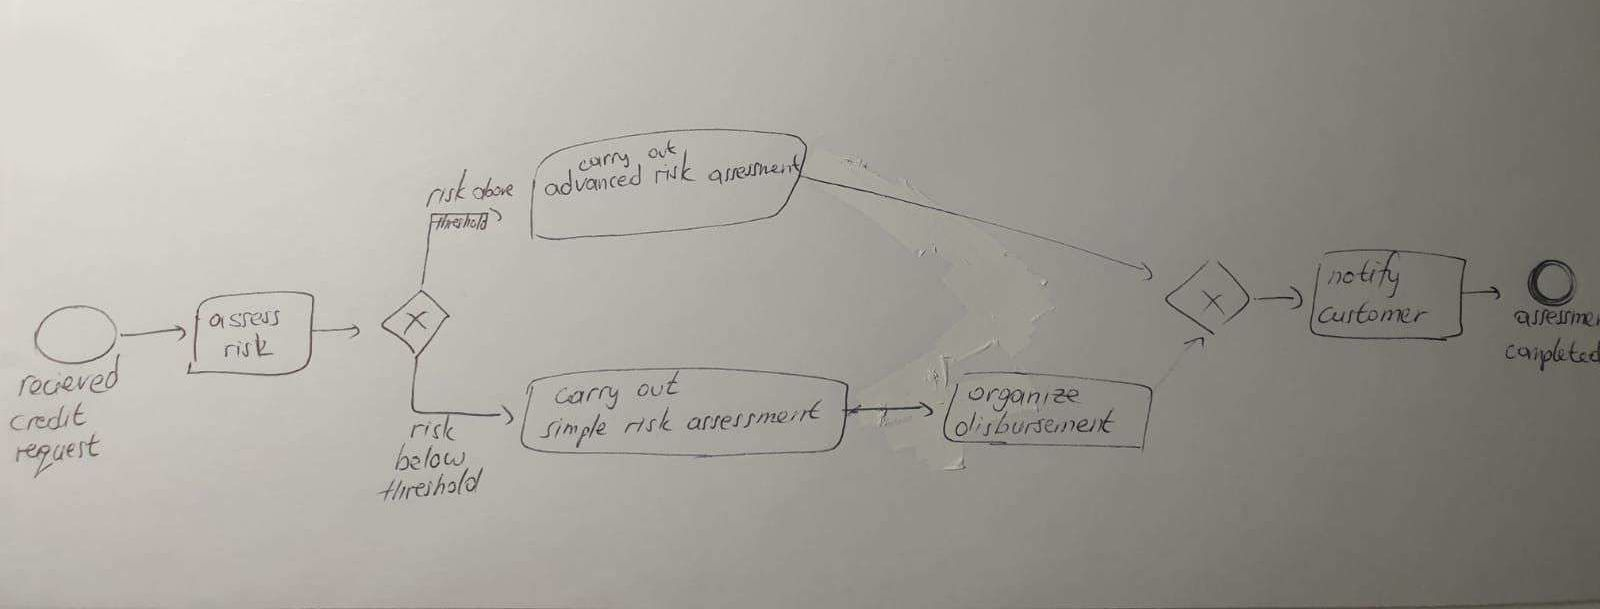above: (469, 173, 519, 204)
advanced: (542, 161, 647, 201)
assess: (204, 304, 285, 333)
assessment: (685, 397, 827, 436), (704, 151, 806, 190), (1508, 305, 1599, 332)
below: (391, 439, 471, 476)
carry: (549, 380, 623, 413), (574, 145, 636, 177)
completed: (1499, 335, 1599, 374)
credit: (5, 399, 93, 437)
customer: (1313, 299, 1434, 329)
disbursement: (950, 407, 1118, 440)
notify: (1323, 248, 1405, 302)
organize: (964, 380, 1085, 415)
out: (635, 370, 683, 403), (645, 138, 680, 163)
recieved: (11, 350, 124, 402)
request: (10, 432, 105, 485)
risk: (648, 144, 700, 190), (619, 402, 679, 440), (422, 168, 470, 211), (219, 329, 278, 364), (406, 411, 460, 444)
simple: (536, 412, 612, 453)
threshold: (373, 465, 487, 506), (431, 212, 495, 233)
